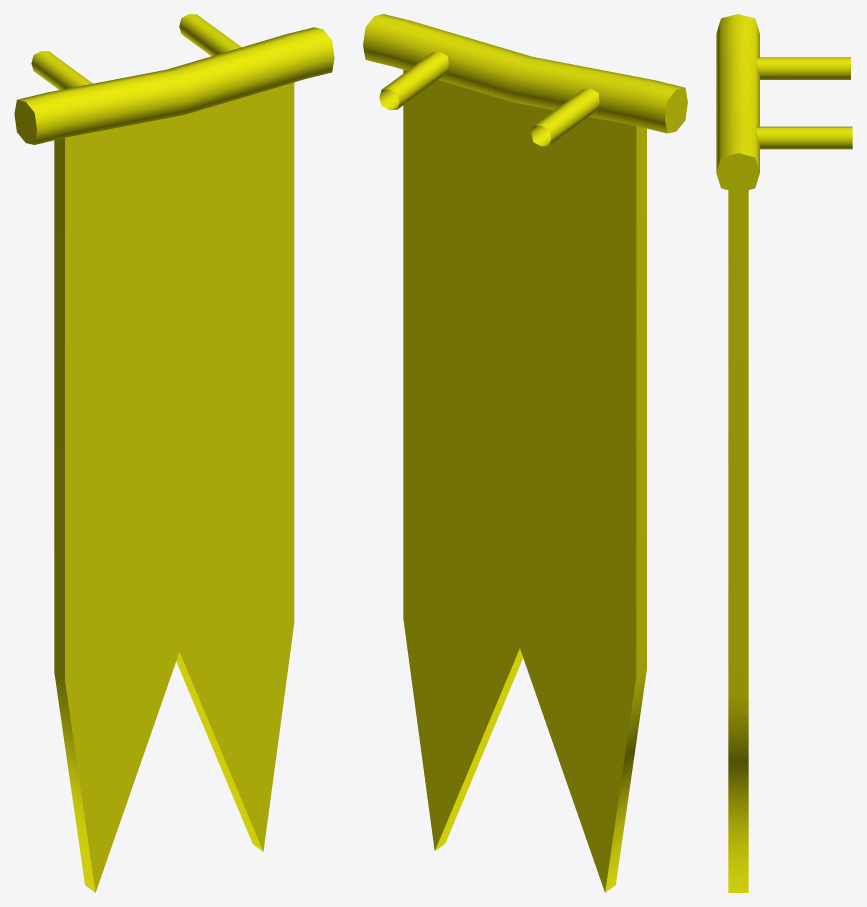
Rendered from m_banner.fbx.
3 views of the same model, side by side, from view 1: azimuth 30°, elevation 25°; view 2: azimuth 150°, elevation 25°; view 3: azimuth 270°, elevation 25° (orthographic). The views are drawn at different scales.
Visible parts, largest first — view 1: m_banner; view 2: m_banner; view 3: m_banner.
Boxes of the visible parts, box(x1,y1,x2,y2) form: m_banner: box(14, 14, 334, 892); m_banner: box(363, 14, 687, 892); m_banner: box(716, 14, 852, 892).
Size of the model in its own units: 1 by 2.58 by 0.4142.
